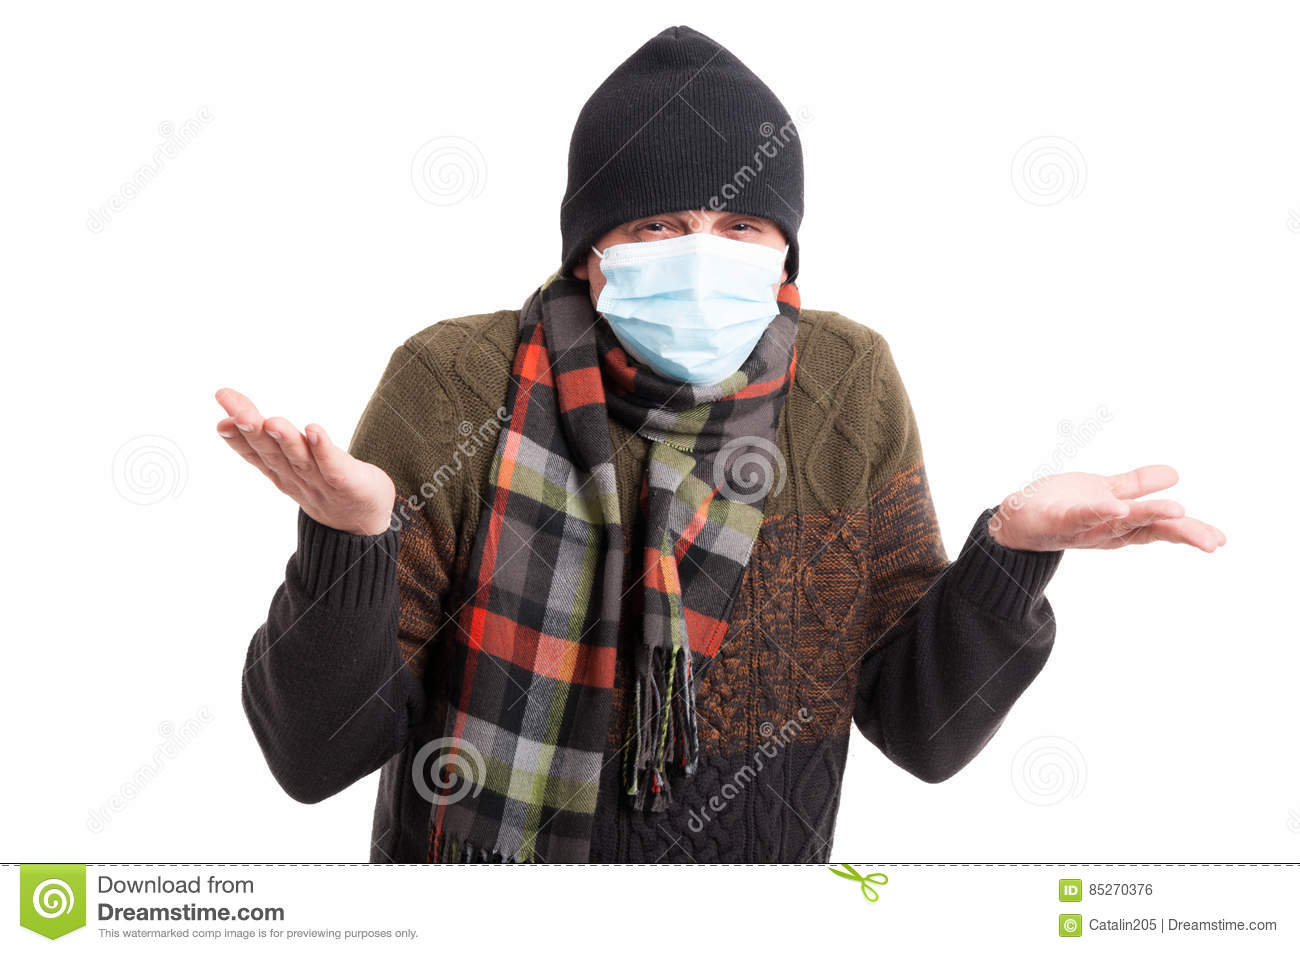mask: (597, 233, 781, 389)
